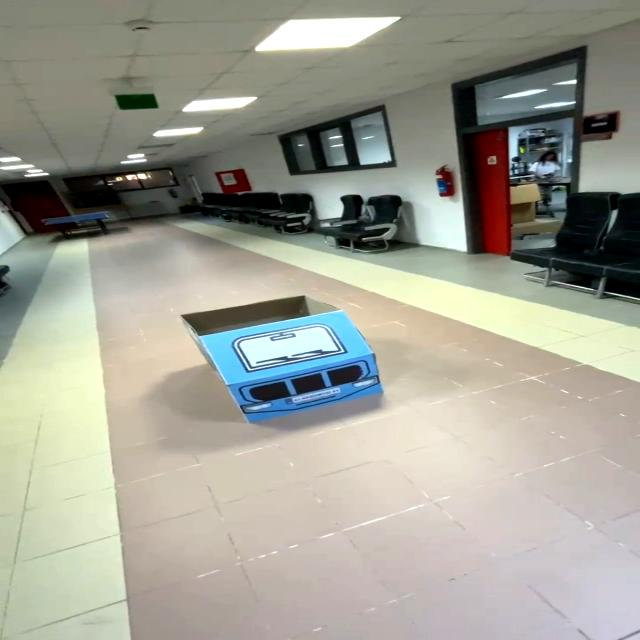blue_car: (166, 280, 409, 420)
